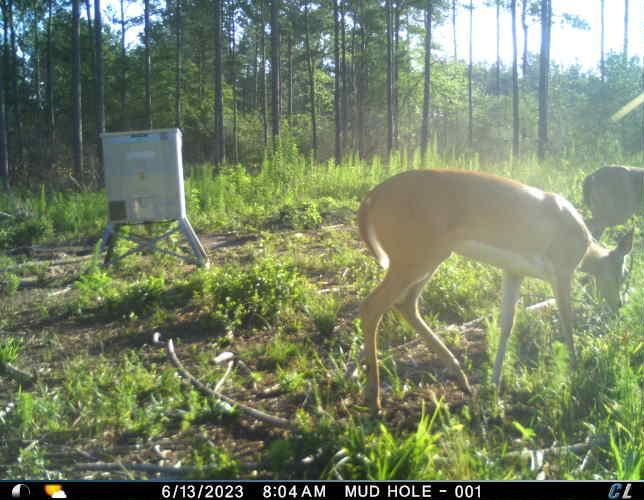Deer: (353, 165, 638, 413), (580, 161, 644, 241)
